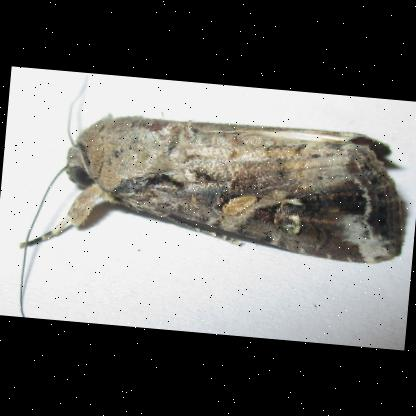Fall Armyworm Moth: (8, 75, 416, 349)
